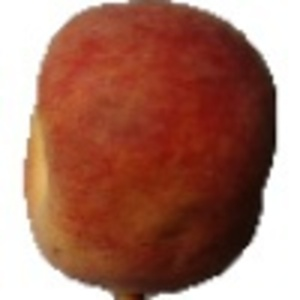pêssego: (2, 1, 279, 300)
